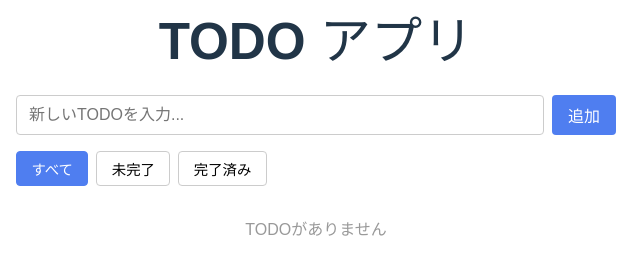
Scenario: App (統合テスト) › TODO を削除できる
This screenshot has width=634, height=269.
Type "削除するTODO" into the field with placeholder "新しいTODOを入力..." at coordinates (280, 115), box left=16, top=95, right=544, bottom=135
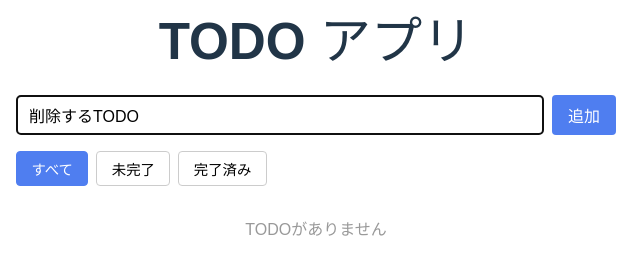
Click the button "追加" at coordinates (584, 115), box left=552, top=95, right=616, bottom=135
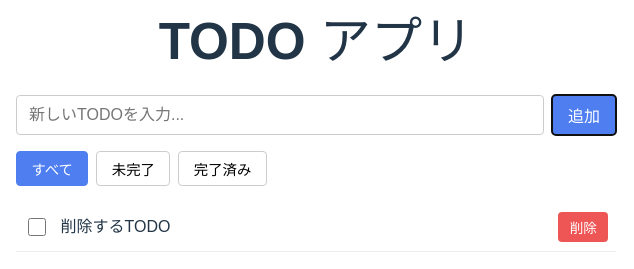
Click the button "削除" at coordinates (583, 227), box left=558, top=212, right=608, bottom=242
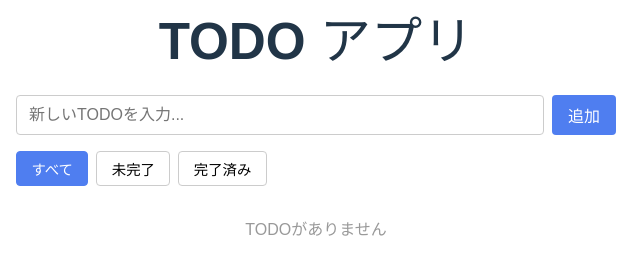
Now the text "削除するTODO" is gone
